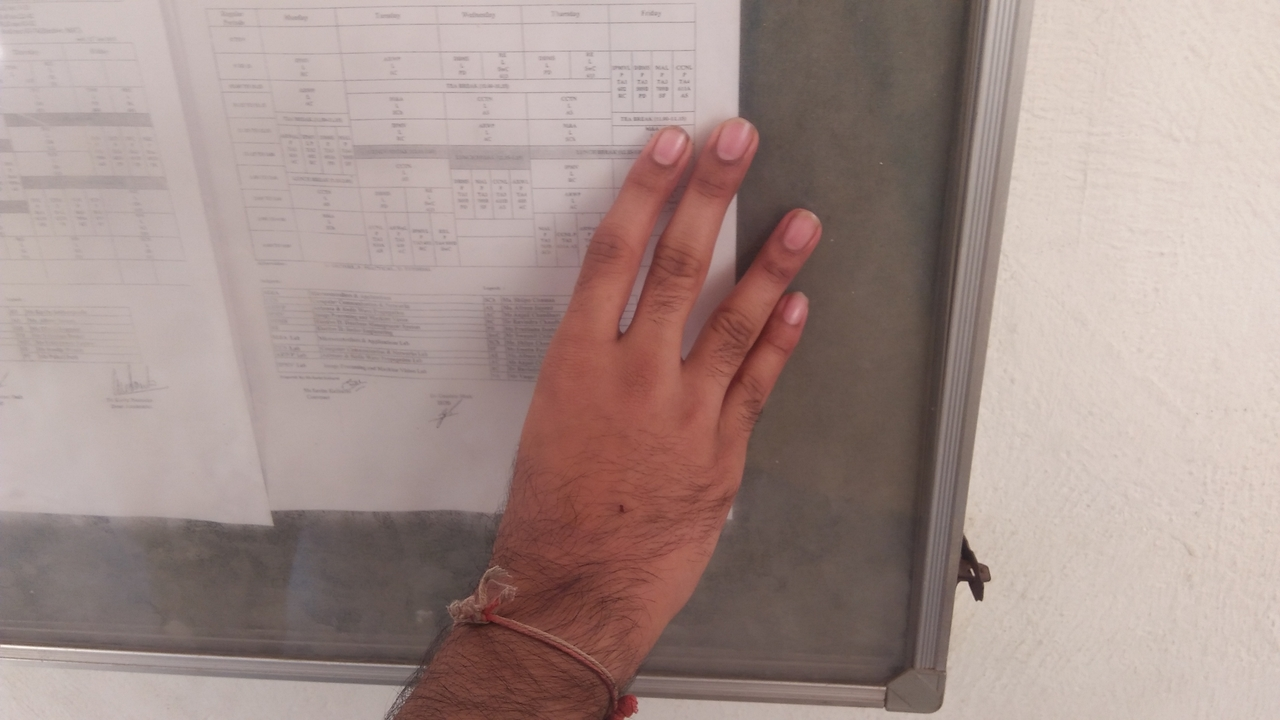fingertip: (694, 108, 770, 166), (764, 196, 832, 256), (634, 116, 700, 172), (775, 293, 815, 332)
